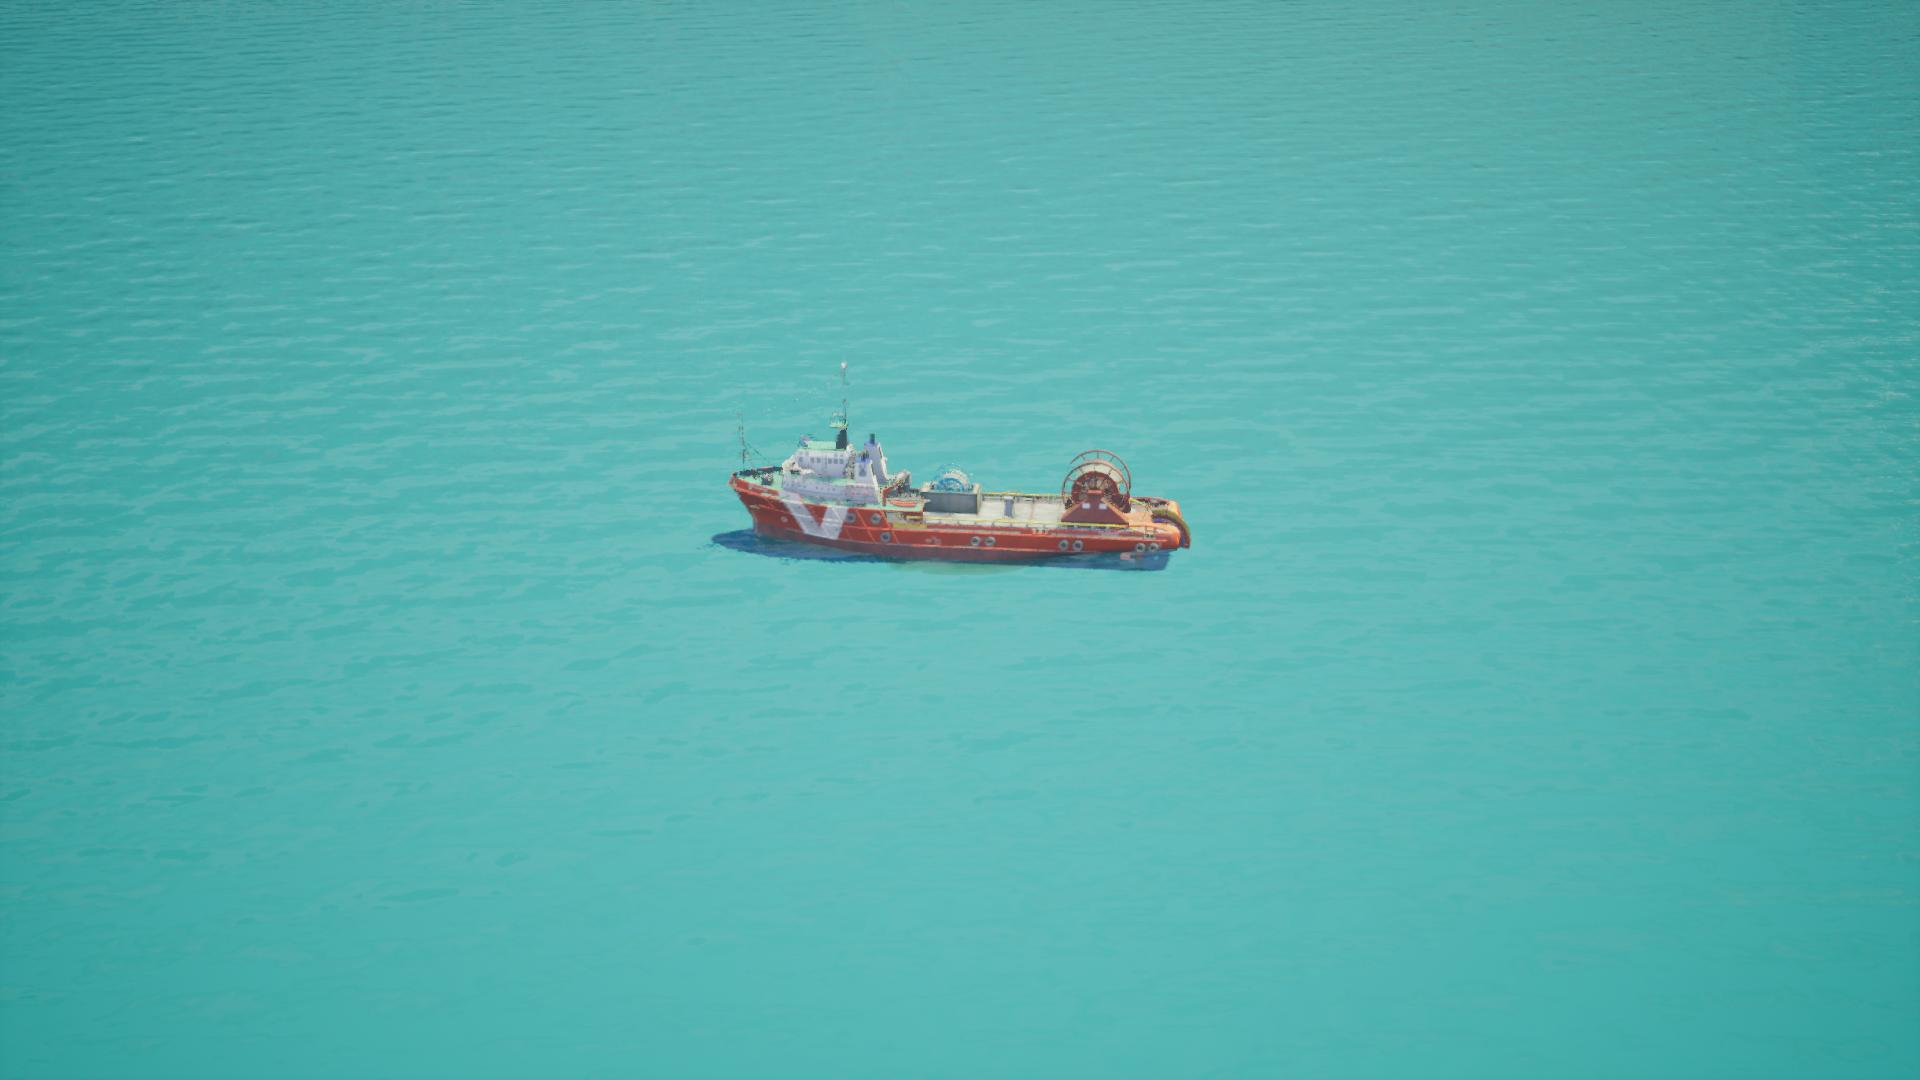Tug Boat: (720, 357, 1201, 576)
